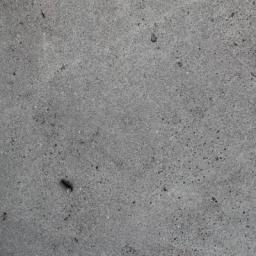FOD: (58, 178, 74, 196)
